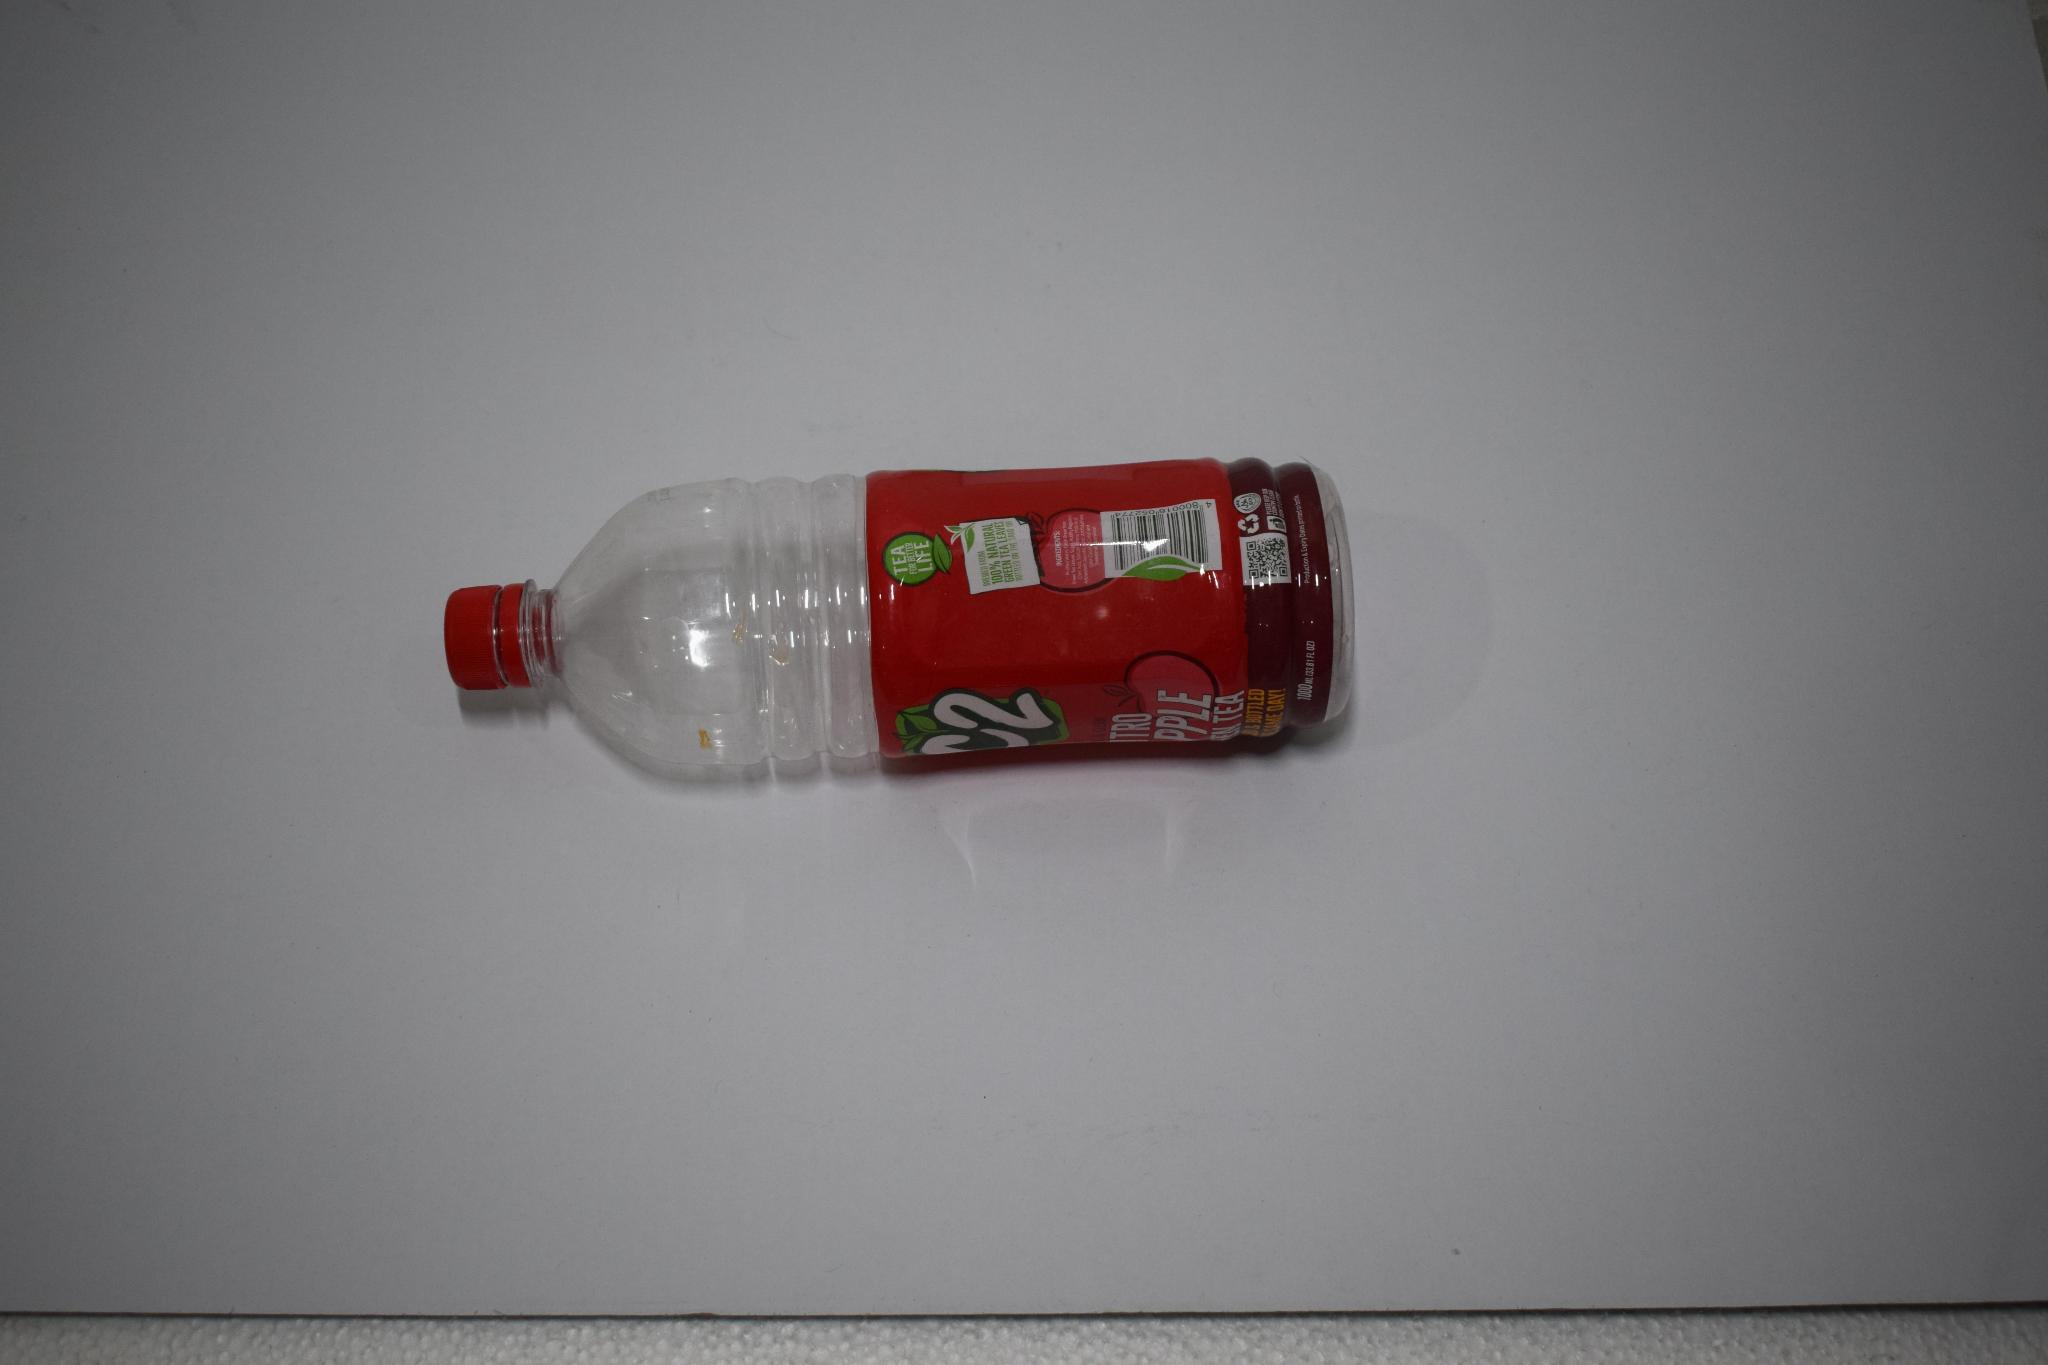bottle: (437, 410, 1351, 807)
